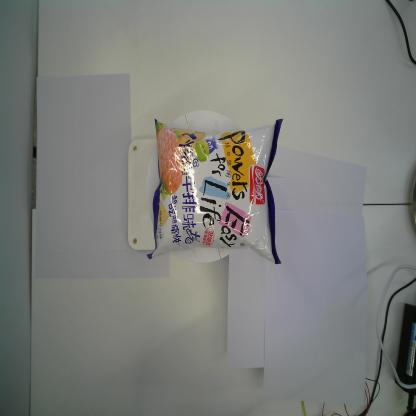Puffed Food: (146, 114, 284, 265)
